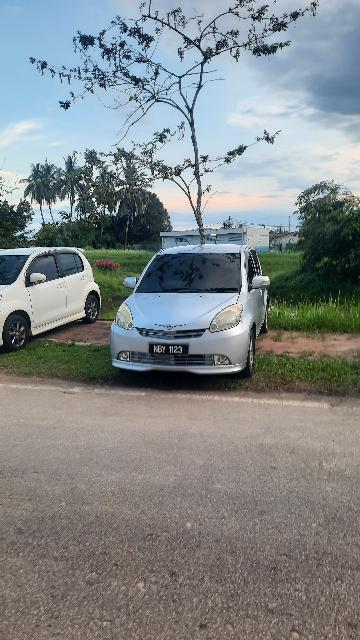License_Plate: (145, 342, 199, 361)
car: (110, 242, 275, 384)
